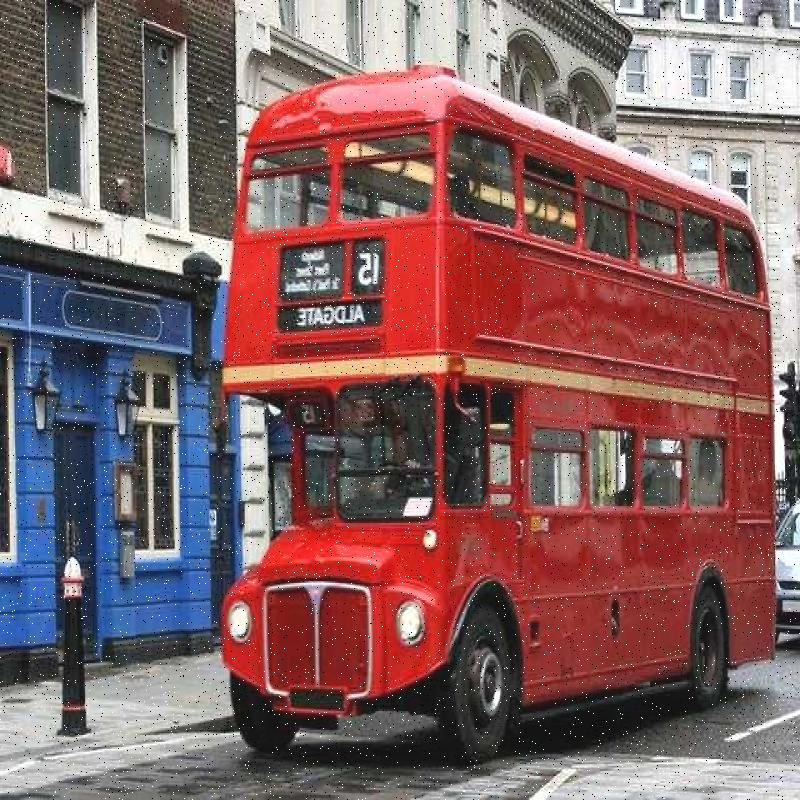bus: (240, 77, 761, 763)
